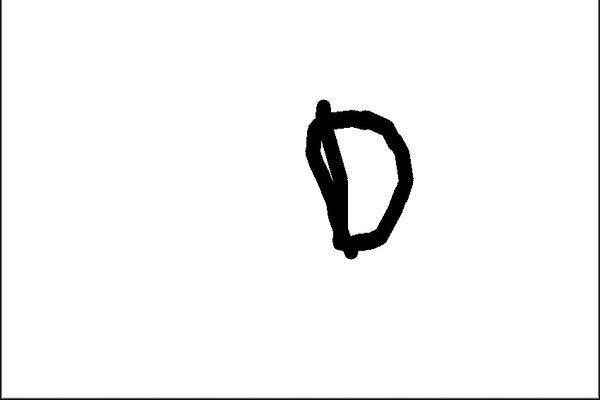D: (298, 93, 417, 262)
